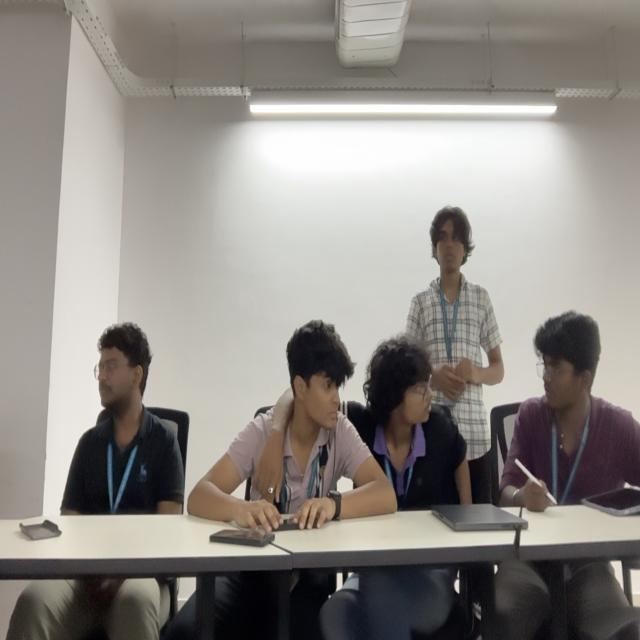Isolated: (62, 322, 185, 518)
socializing: (189, 209, 640, 522)
